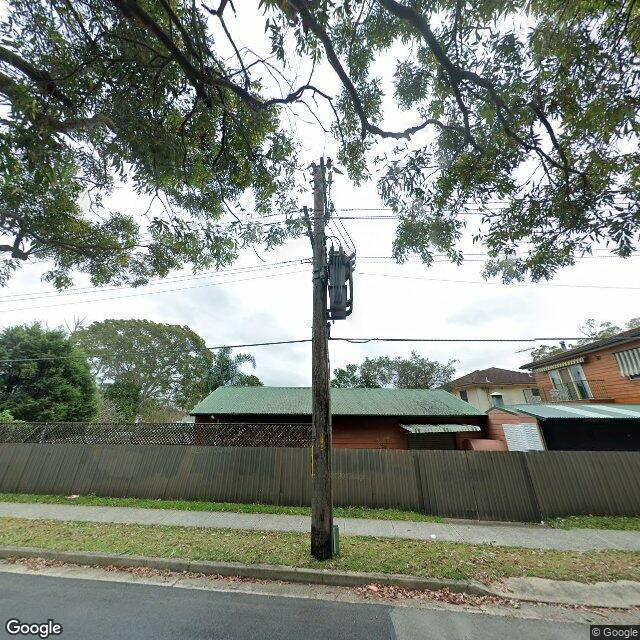HV-transmission: (320, 156, 334, 224)
crossarm: (302, 205, 314, 251), (320, 157, 328, 212)
timber-pole: (310, 164, 334, 560)
transformer: (327, 243, 356, 320)
